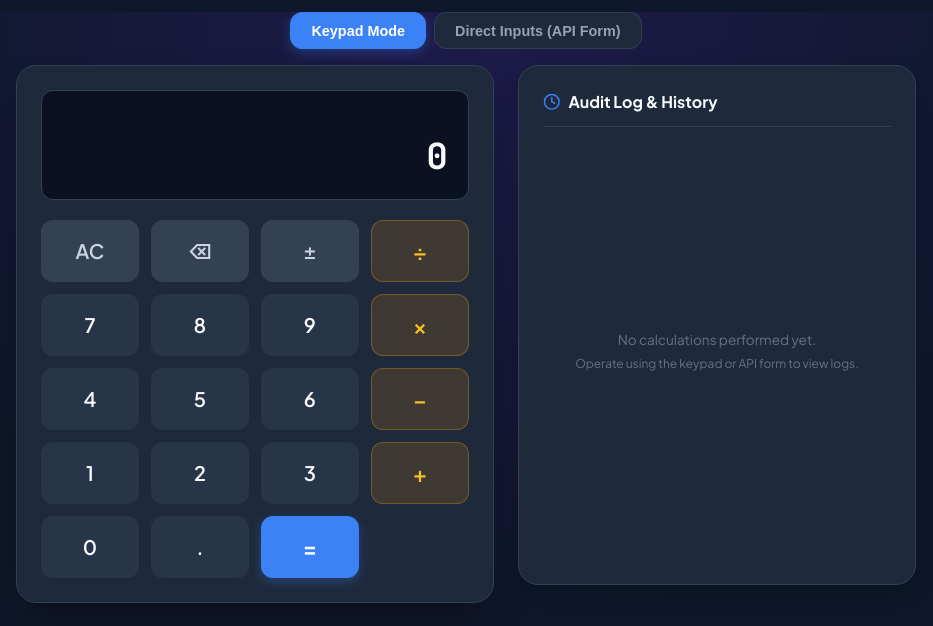
Test: Calculator Component › switches to Direct Inputs form mode and calculates
// Switch tab
Click the tab with test id "tab-direct" at (538, 31), box [434,12,642,49]
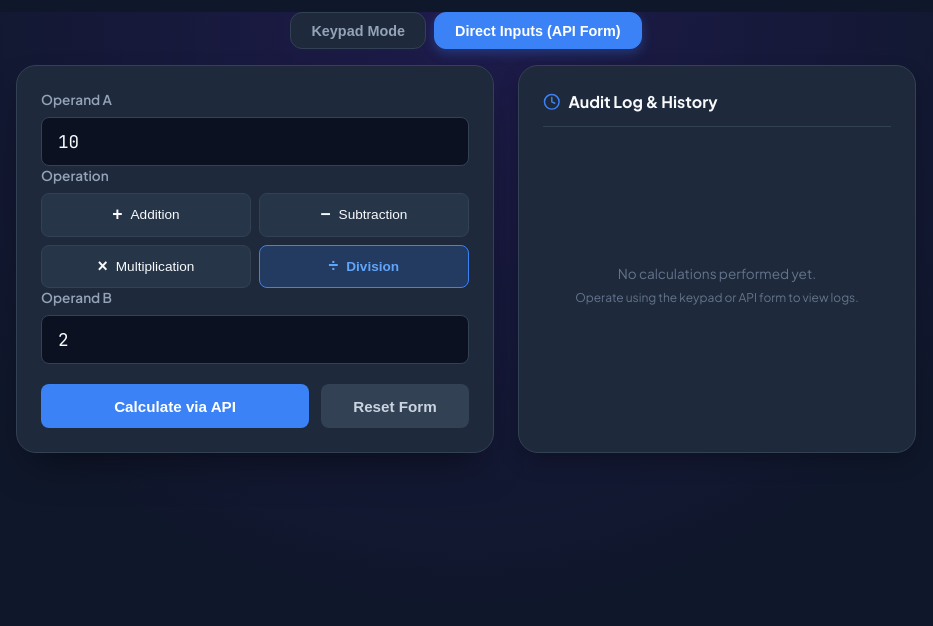
expect the form with test id "direct-form" is shown: met, box [41,90,469,428]
// Submit form with default 10 and 2
Click the button with test id "btn-form-submit" at (175, 406), box [41,384,309,428]
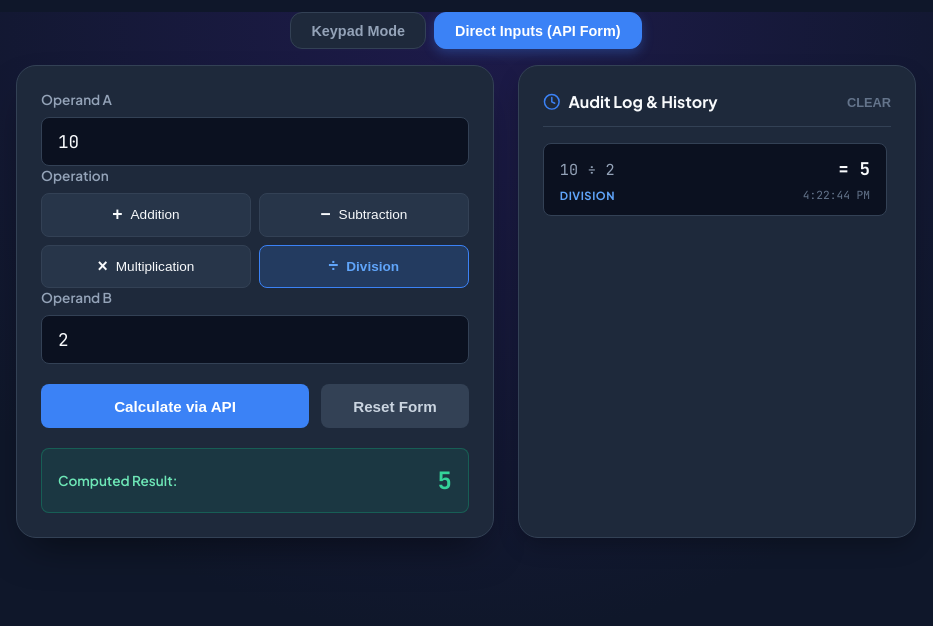
expect the text with test id "form-result-value" reads "5": met, box [437,465,452,496]
